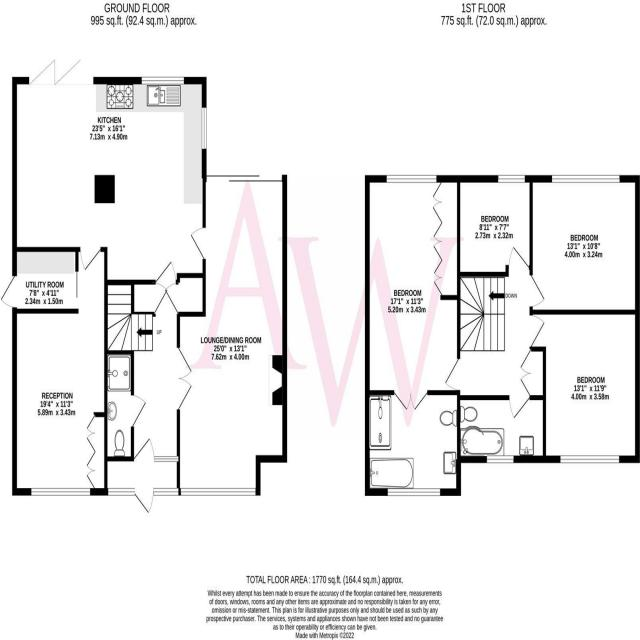DOOR: (508, 246, 530, 277), (0, 274, 17, 309), (529, 314, 546, 348), (190, 225, 206, 261), (154, 259, 176, 285), (444, 357, 460, 392), (529, 274, 545, 308), (131, 394, 147, 428), (133, 437, 155, 461), (509, 395, 530, 419), (80, 247, 101, 271)
FOLDING DOOR: (26, 49, 99, 92)
ROOM: (12, 58, 207, 286), (176, 174, 287, 496), (12, 246, 108, 495), (365, 175, 461, 412), (529, 309, 640, 464), (529, 175, 640, 315), (457, 175, 533, 276)
WINDOW: (551, 174, 620, 184), (180, 487, 256, 496), (559, 454, 620, 464), (31, 487, 91, 497), (387, 487, 441, 497), (386, 174, 437, 183), (141, 76, 185, 86), (201, 106, 207, 151), (486, 455, 514, 464), (497, 175, 525, 183)
